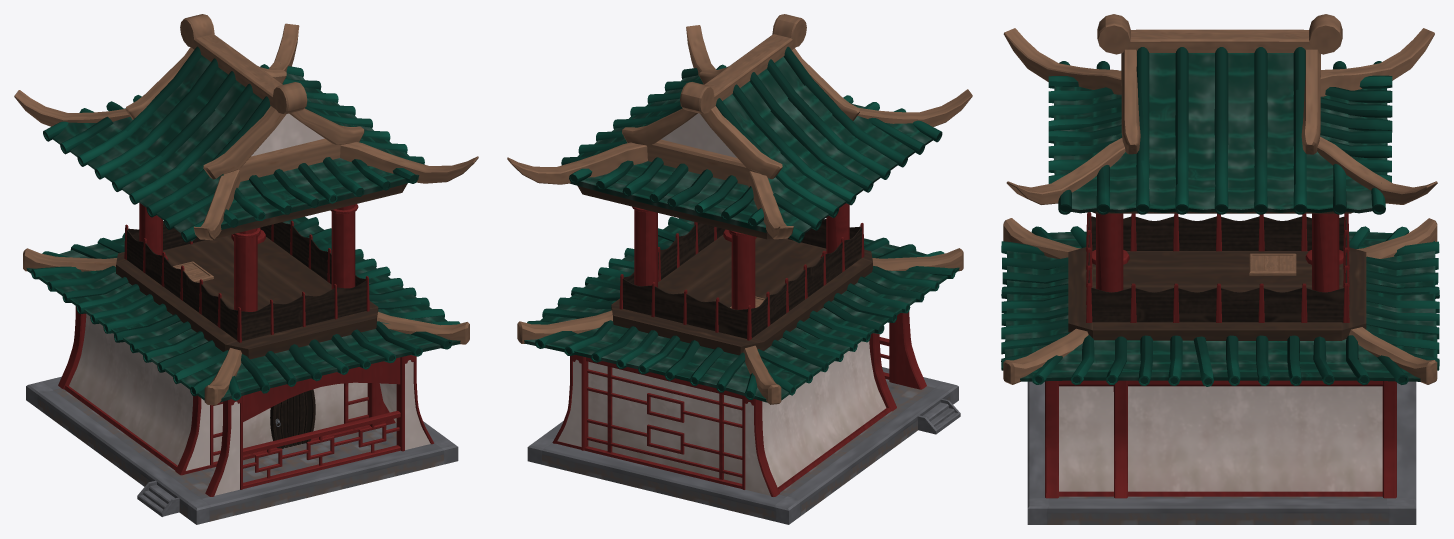
The model's file is Building02.fbx.
3 views of the same model, side by side, from view 1: azimuth 30°, elevation 25°; view 2: azimuth 150°, elevation 25°; view 3: azimuth 270°, elevation 25° (orthographic). The views are drawn at different scales.
Visible parts, largest first — view 1: Building02__1__mesh_mesh; view 2: Building02__1__mesh_mesh; view 3: Building02__1__mesh_mesh.
Boxes of the visible parts, left/top/right/bottom form: Building02__1__mesh_mesh: left=14, top=14, right=478, bottom=524; Building02__1__mesh_mesh: left=507, top=14, right=972, bottom=524; Building02__1__mesh_mesh: left=1001, top=14, right=1439, bottom=524.
Size of the model in its own units: 163 by 200 by 183.
1 material, 1 textured.
